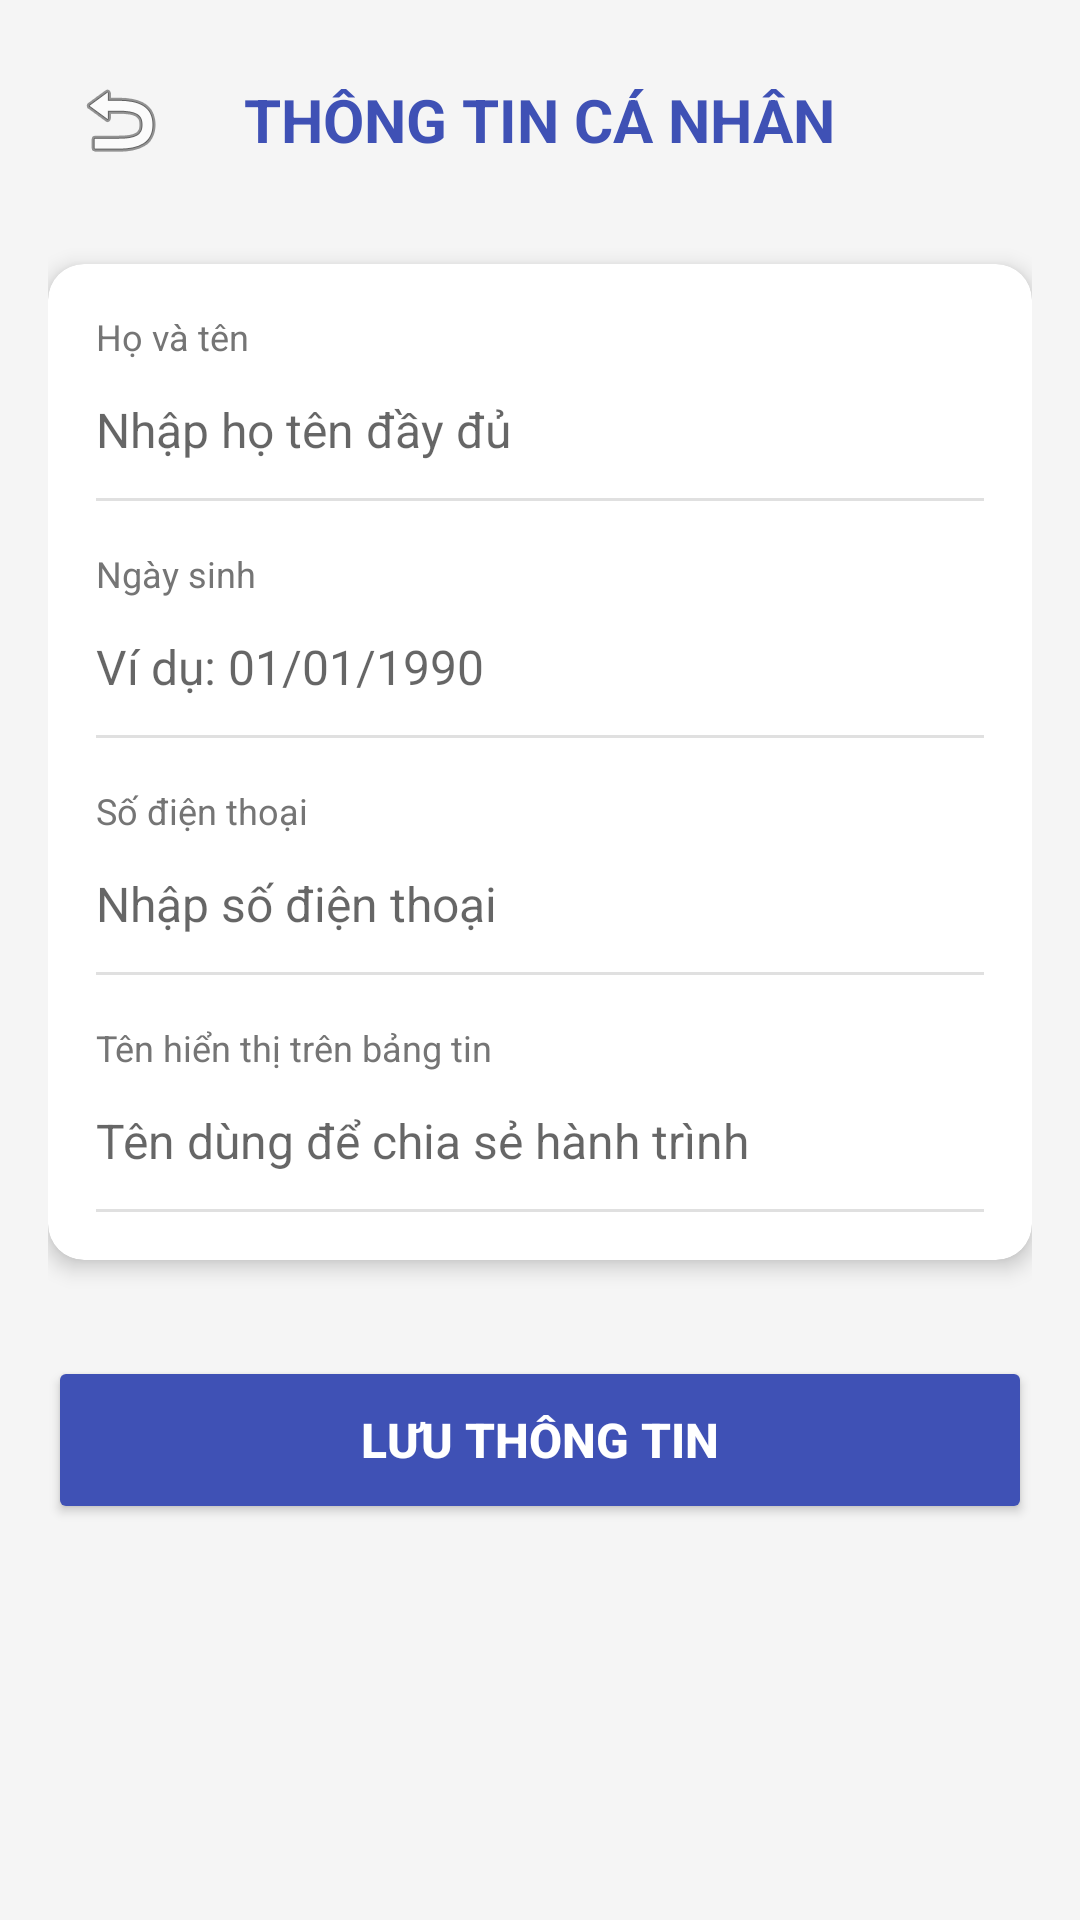

Named icons in this screenshot (1080w x 1920h) and their centers, (x,y):
Quay lại: (121,120)
